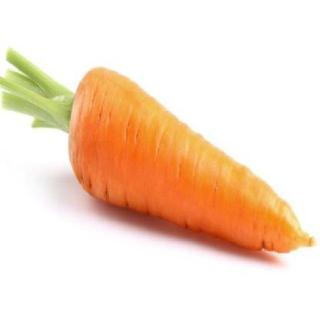carrot: (51, 50, 315, 276)
